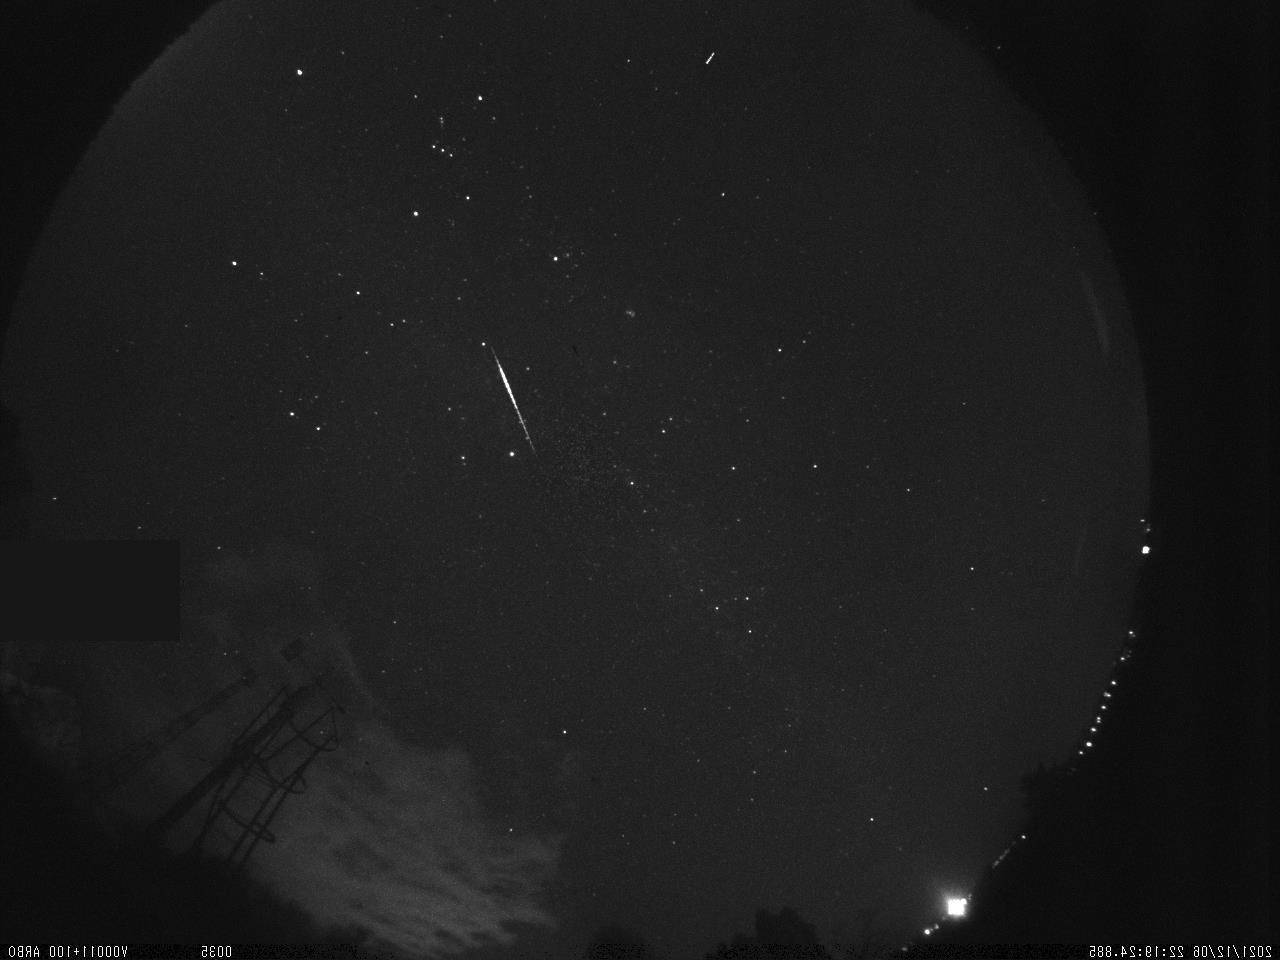meteor: (462, 335, 564, 459)
